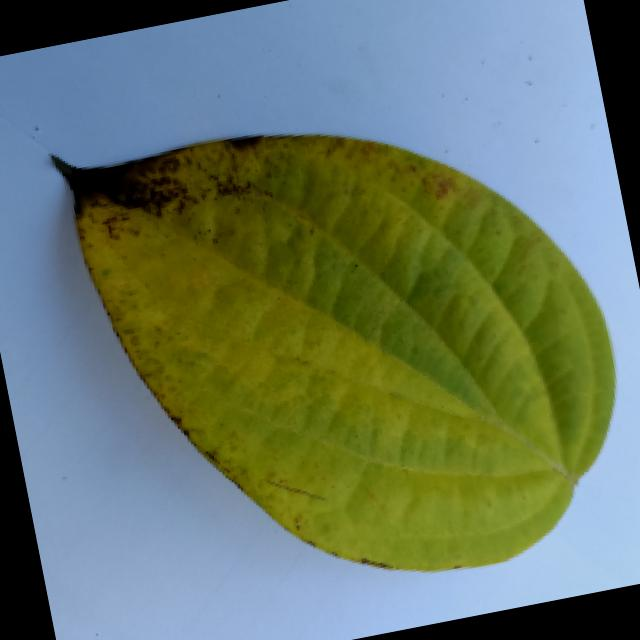slow-decline: (30, 48, 640, 631)
